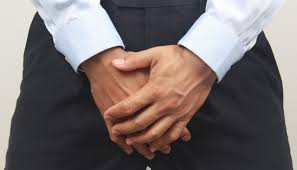hand: (65, 31, 259, 165)
